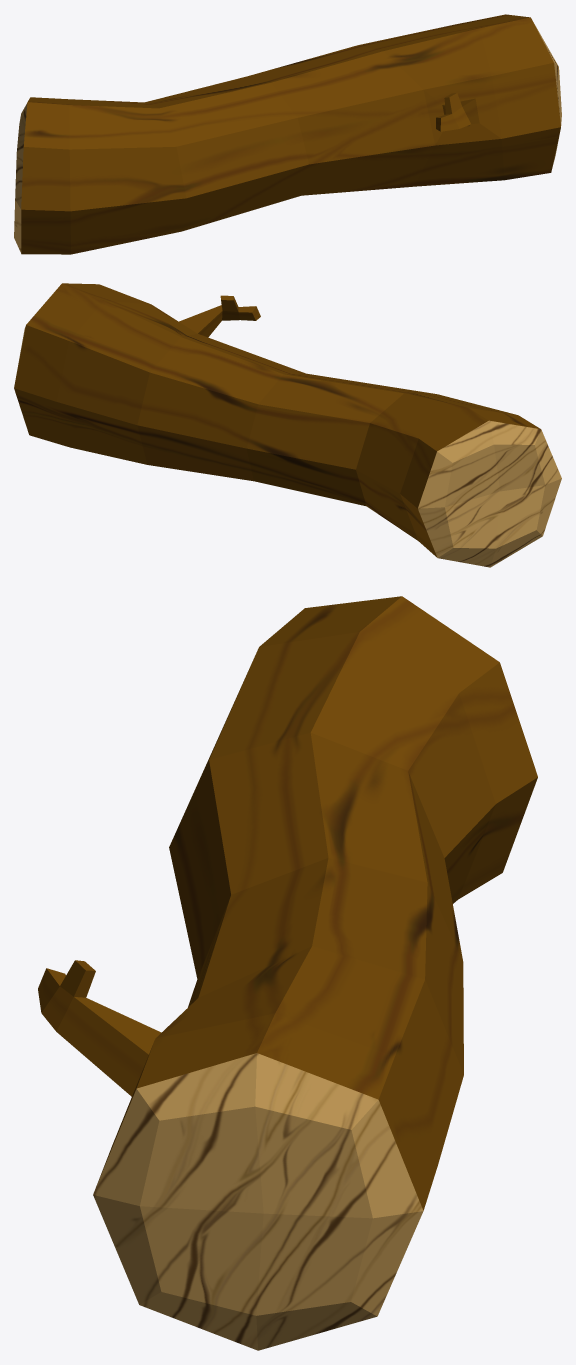
Rendered from coisa para a fogueira.fbx_tora_3.fbx.
3 renders of one model, top to bottom at view 1: azimuth 30°, elevation 25°; view 2: azimuth 150°, elevation 25°; view 3: azimuth 270°, elevation 25°, orthographic. The views are drawn at different scales.
Visible parts, largest first — view 1: tora 03; view 2: tora 03; view 3: tora 03.
Part boxes in pixels (x1=…): tora 03: x1=14, y1=14, x2=561, y2=254; tora 03: x1=14, y1=283, x2=561, y2=567; tora 03: x1=38, y1=596, x2=537, y2=1350.
Size of the model in its own units: 565 by 160 by 237.
